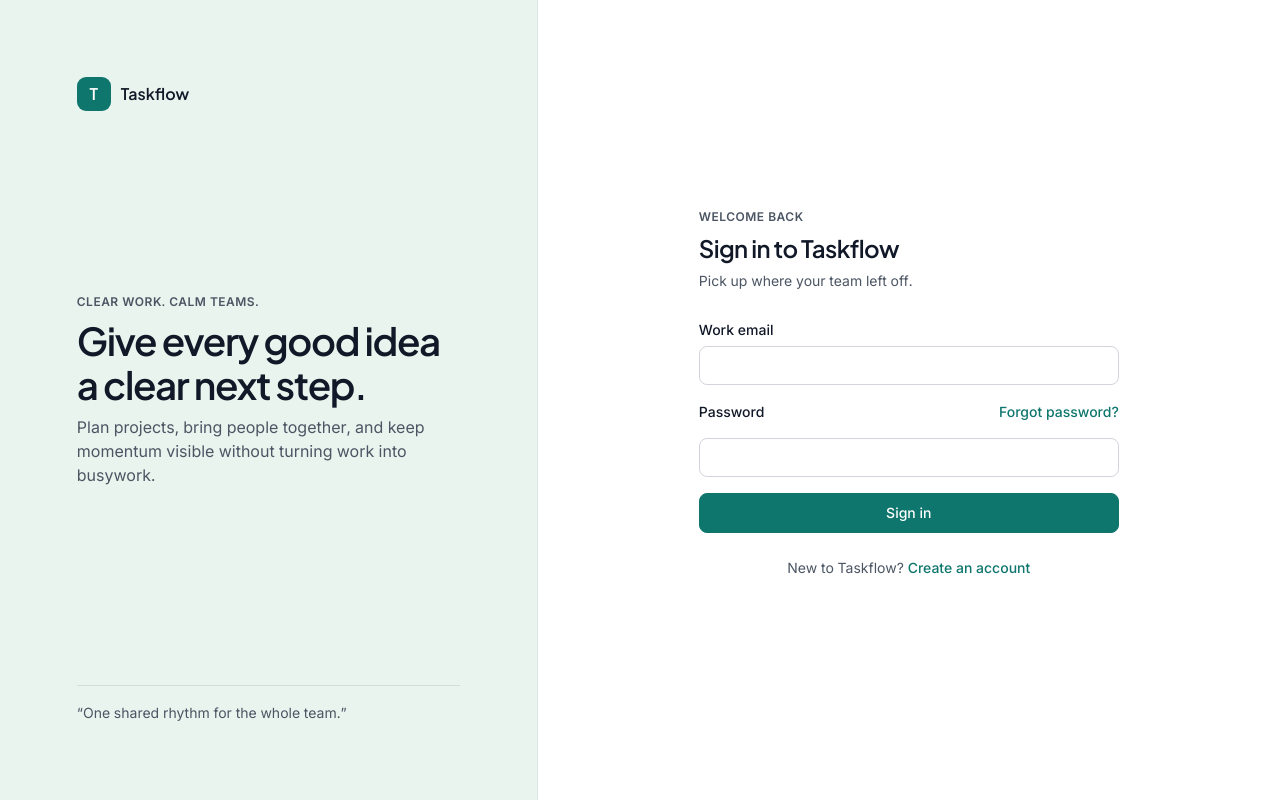
Test case: login page › shows a safe API error without losing entered values
Step 1. Type "asha@example.com" into the field labelled "Work email" → (909, 366), box [699,346,1119,385]
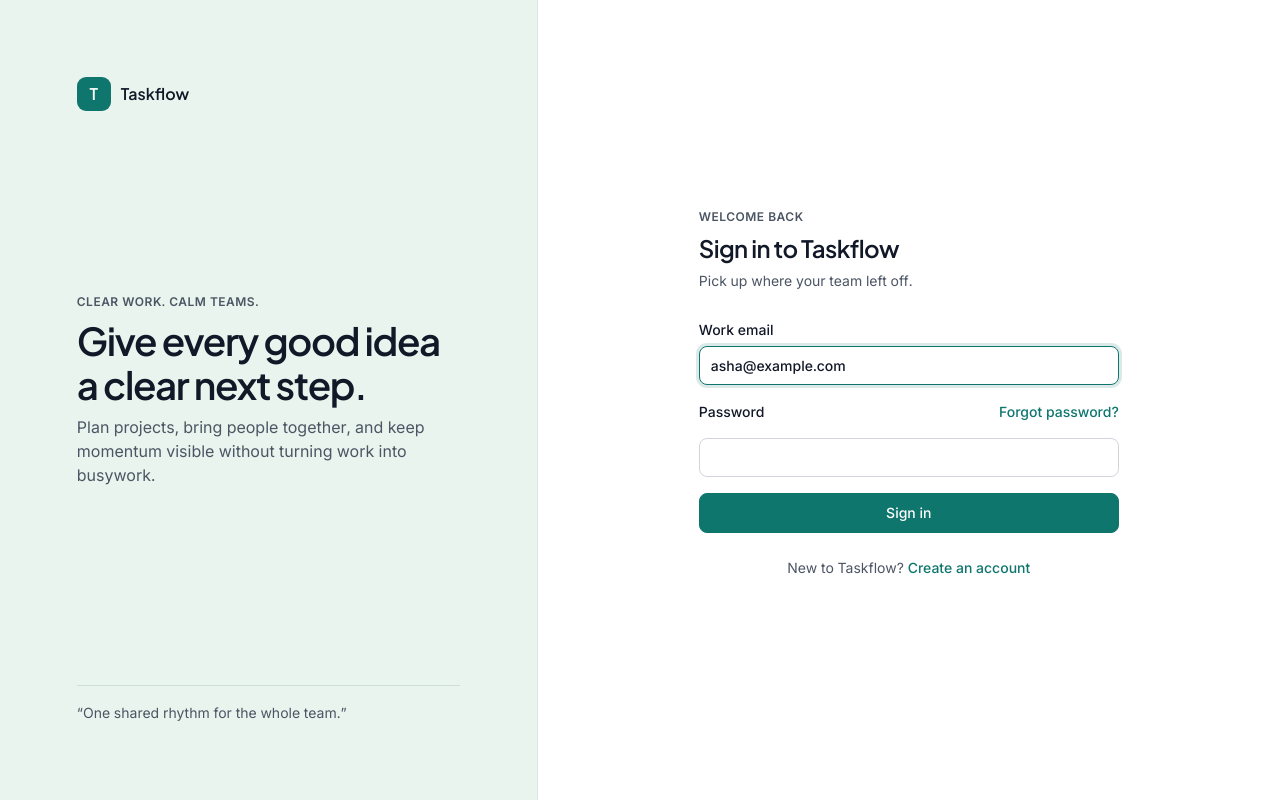
Step 2. Type "incorrect" into the password field labelled "Password" → (909, 458), box [699,438,1119,477]
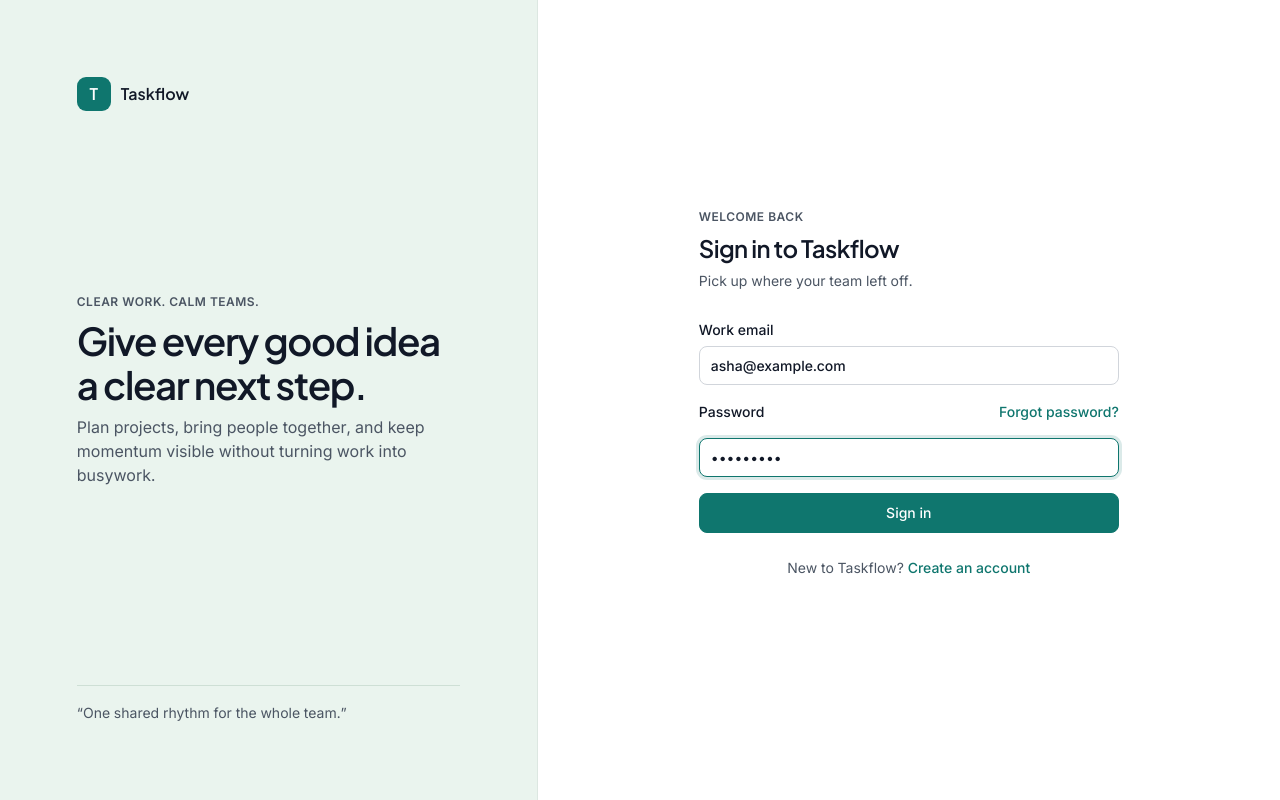
Step 3. Click the button "Sign in" → (909, 513), box [699,493,1119,533]
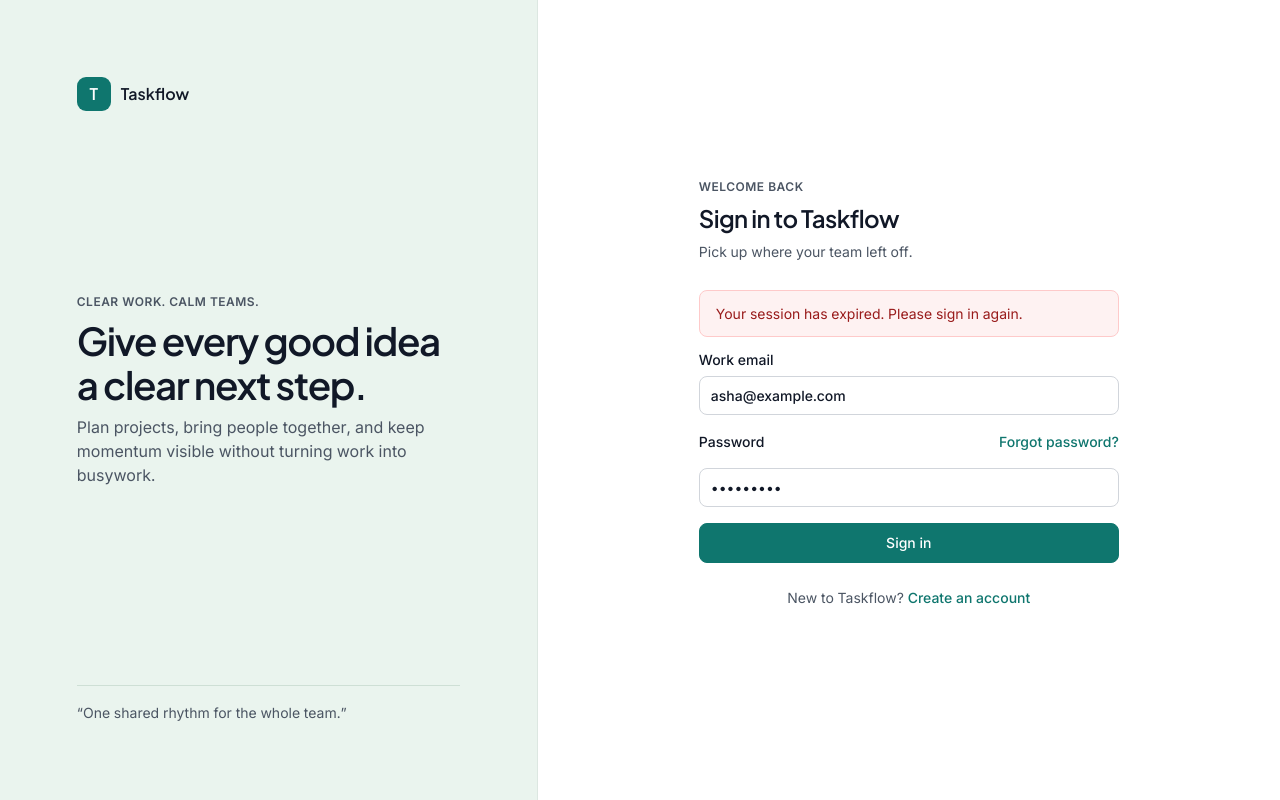
Expected: the message shows "session has expired", [716,305,1022,322]
